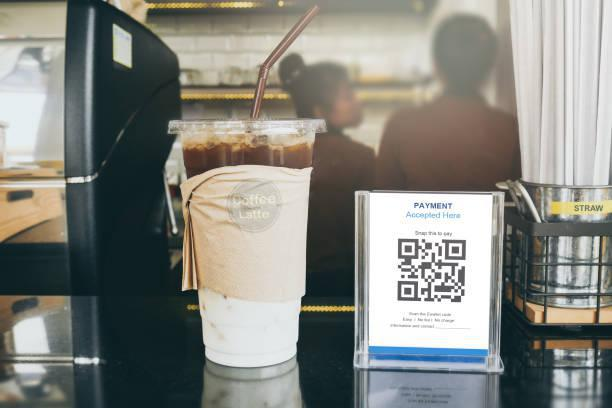Finder pattern: (395, 236, 422, 263), (443, 237, 470, 263), (395, 278, 422, 304)
